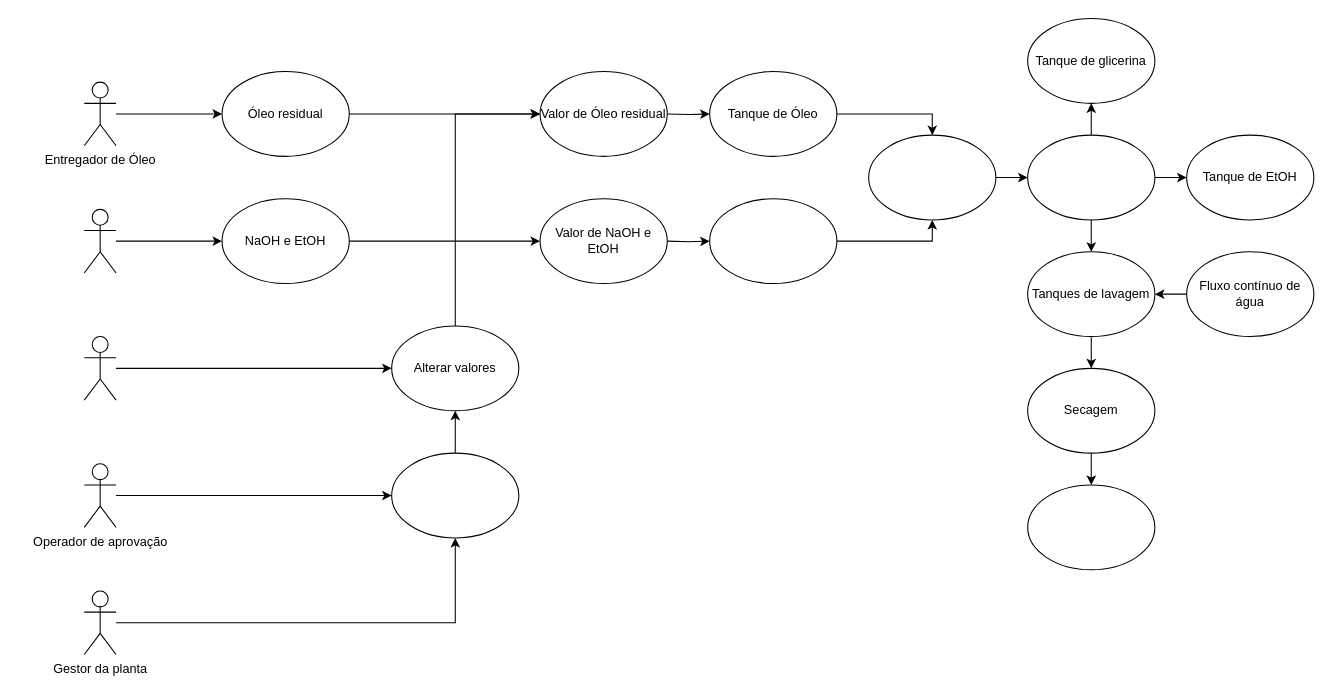
Some shapes in this 1332 by 695 pixel diagram are drawn without their labels. Here are the shapes that lost their labels. From the top down, the centre of each, then its label:
(932,177): Reator
(1091,177): Decantador
(99,240): Entregador de NaOH e EtOH
(773,241): Tanque de NaOH e EtOH
(99,367): Operador de alteração
(455,495): Aprovação da alteração
(1091,527): Tanque de biodiesel
